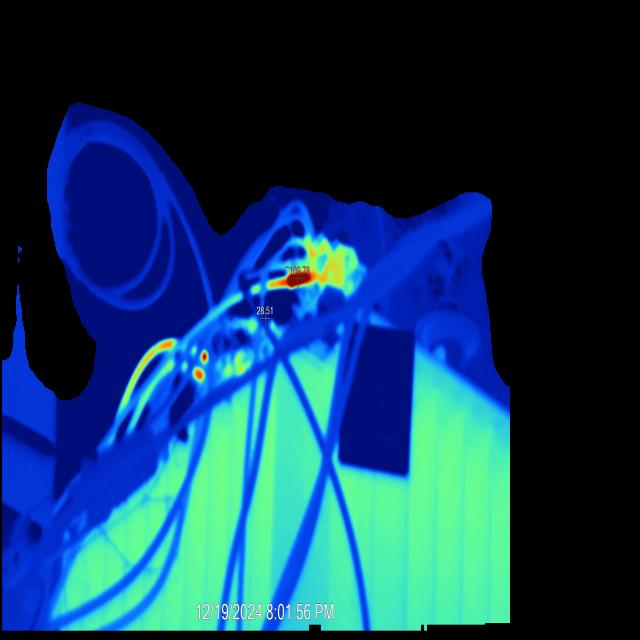Full Wire Overload PF: (119, 338, 178, 411)
Point Overload F: (284, 266, 312, 288), (192, 366, 205, 382), (200, 350, 208, 364)
